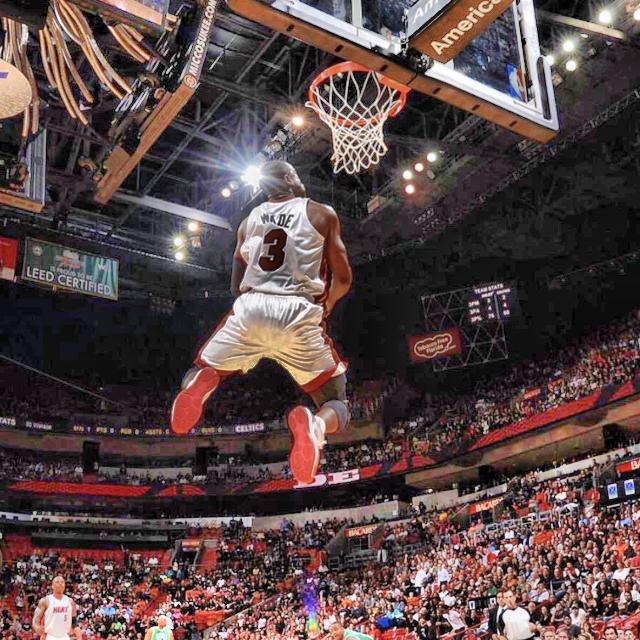rim: (309, 61, 409, 174)
